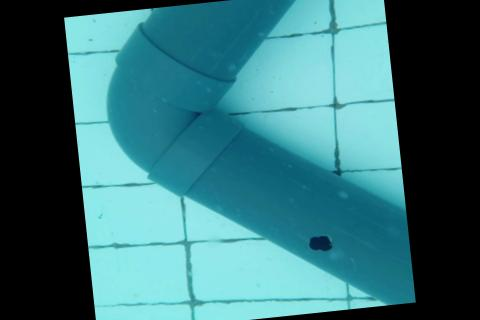kebocoran: (307, 231, 335, 253)
